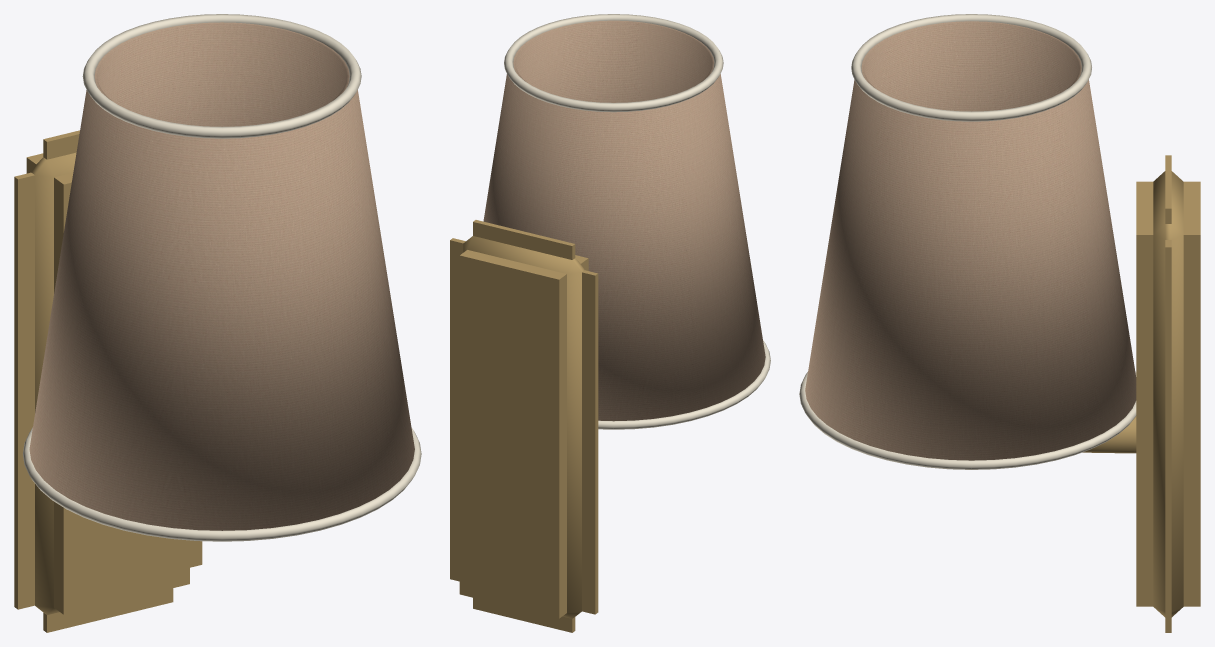
The model's file is scandinavian.wall_light.gltf.
3 renders of one model, left to right at view 1: azimuth 30°, elevation 25°; view 2: azimuth 150°, elevation 25°; view 3: azimuth 270°, elevation 25°, orthographic. The views are drawn at different scales.
Visible parts, largest first — view 1: scandinavian.wall_light.wall-plate; view 2: scandinavian.wall_light.wall-plate; view 3: scandinavian.wall_light.wall-plate.
Part boxes in pixels (x1=…): scandinavian.wall_light.wall-plate: x1=14, y1=14, x2=421, y2=632; scandinavian.wall_light.wall-plate: x1=450, y1=14, x2=770, y2=632; scandinavian.wall_light.wall-plate: x1=799, y1=14, x2=1200, y2=632.
Bounding box in the file's own units: 0.134 × 0.2327 × 0.156.
Materials: 4 (1 with a texture image).
